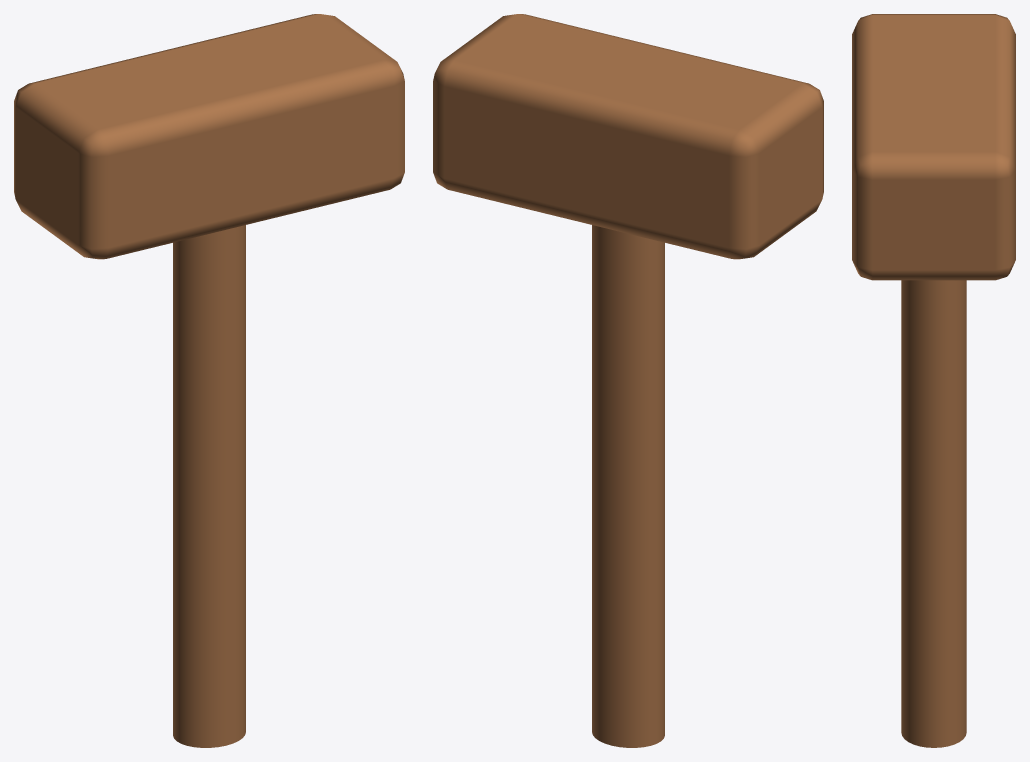
The model's file is wp-maillet.glb.
3 renders of one model, left to right at view 1: azimuth 30°, elevation 25°; view 2: azimuth 150°, elevation 25°; view 3: azimuth 270°, elevation 25°, orthographic.
Visible parts, largest first — view 1: wp-maillet; view 2: wp-maillet; view 3: wp-maillet.
Boxes of the visible parts, x1=… form: wp-maillet: x1=14, y1=14, x2=404, y2=747; wp-maillet: x1=433, y1=14, x2=823, y2=747; wp-maillet: x1=852, y1=14, x2=1015, y2=747.
Bounding box in the file's own units: 0.18 × 0.35 × 0.08.
